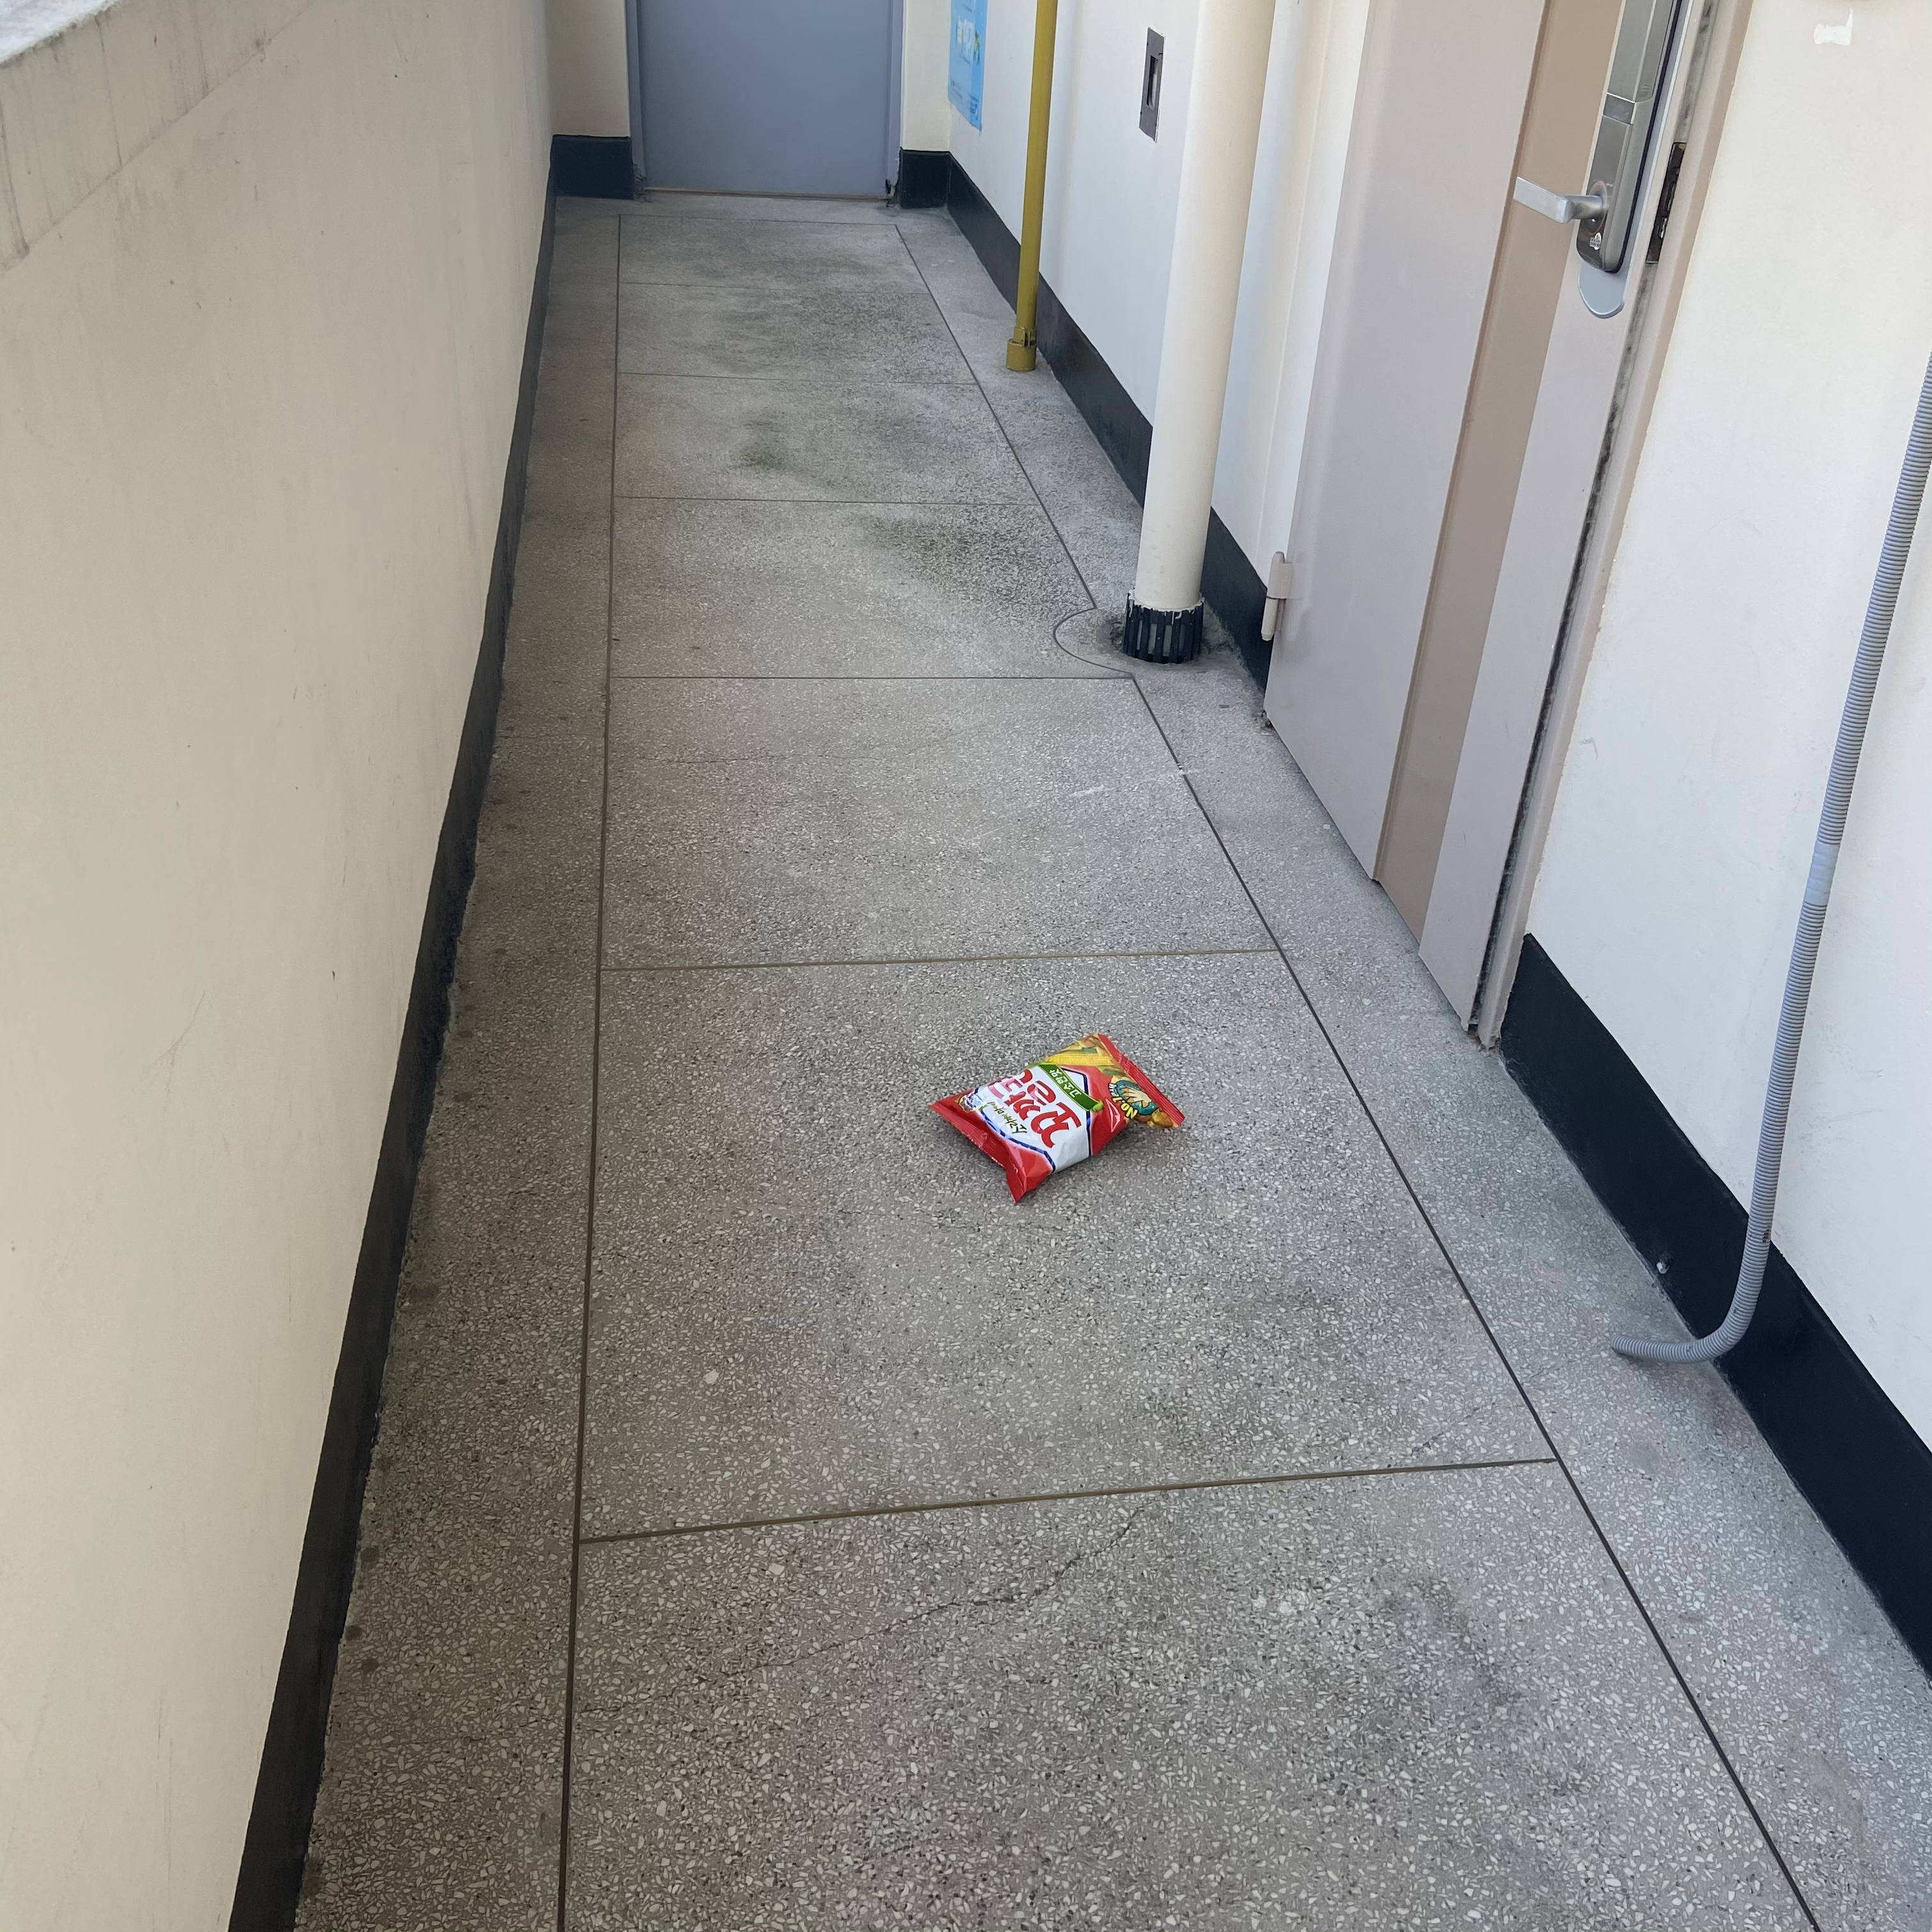ggoggalcon: (913, 1023, 1194, 1223)
